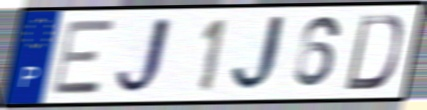1: (197, 16, 229, 94)
6: (293, 13, 343, 93)
D: (341, 13, 405, 92)
E: (49, 17, 117, 97)
J: (111, 14, 176, 99), (229, 12, 294, 96)
